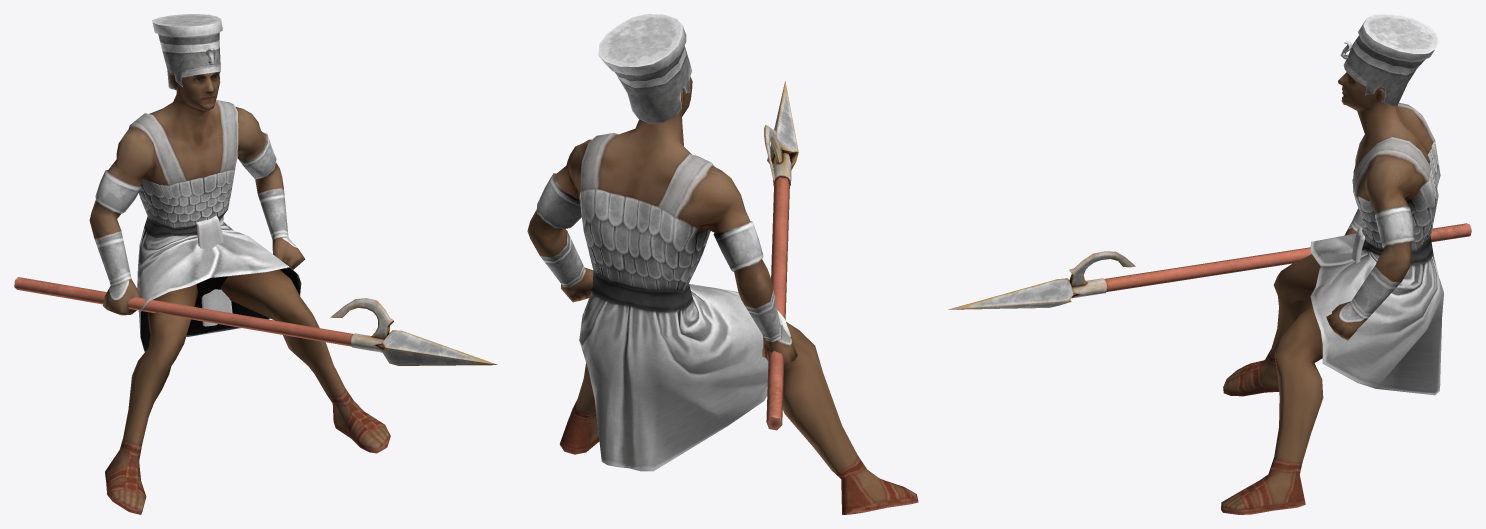
File: rider-championwarelephants.glb
3 renders of one model, left to right at view 1: azimuth 30°, elevation 25°; view 2: azimuth 150°, elevation 25°; view 3: azimuth 270°, elevation 25°, orthographic. The views are drawn at different scales.
Bounding box in the file's own units: 1.31 × 1.85 × 2.02.
Materials: 3 (3 with a texture image).
